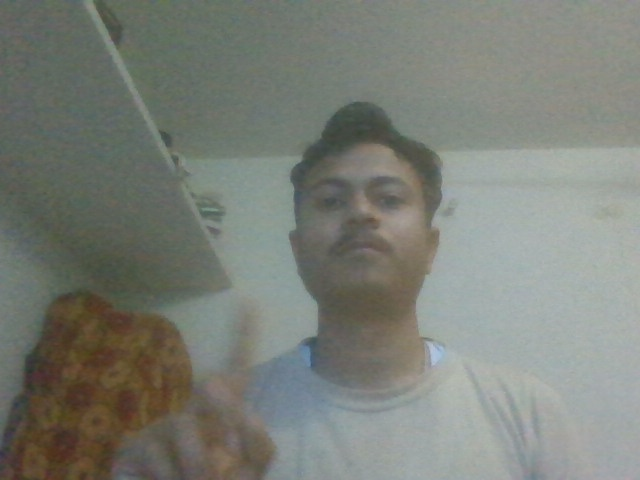No: (122, 310, 303, 477)
